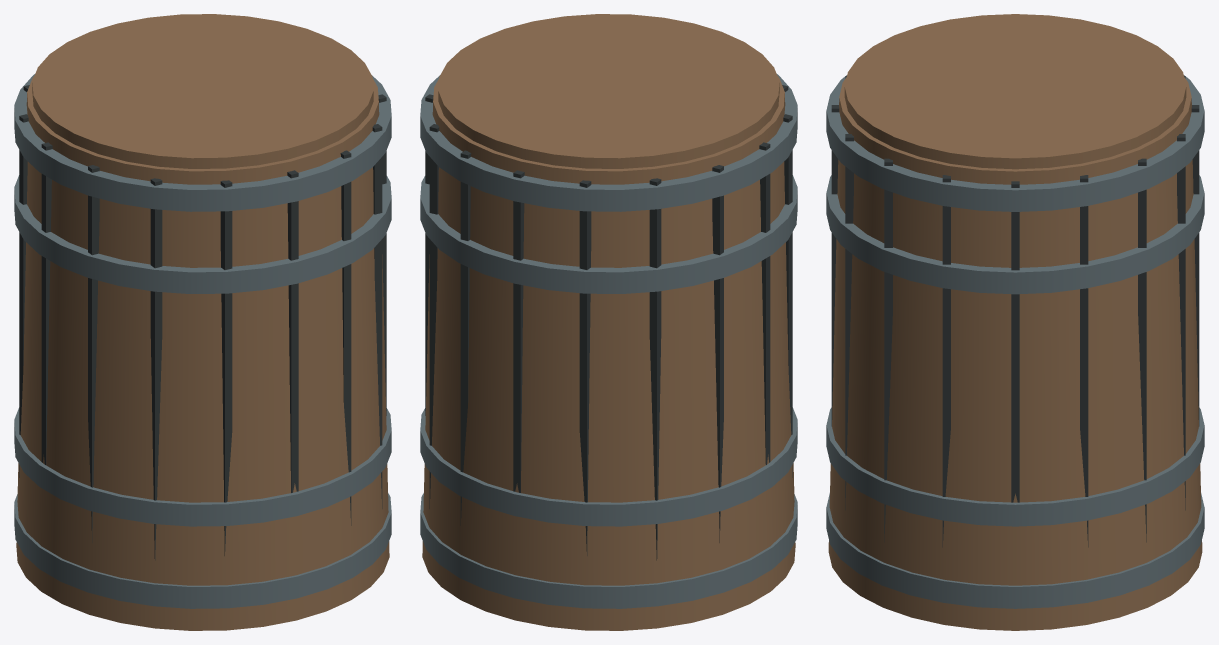
Rendered from barrel.glb.
3 views of the same model, side by side, from view 1: azimuth 30°, elevation 25°; view 2: azimuth 150°, elevation 25°; view 3: azimuth 270°, elevation 25° (orthographic).
Parts seen in each view (by area): view 1: Бочка с обручами; view 2: Бочка с обручами; view 3: Бочка с обручами.
Boxes of the visible parts, bbox=[...] form: Бочка с обручами: bbox=[14, 14, 391, 630]; Бочка с обручами: bbox=[420, 14, 797, 630]; Бочка с обручами: bbox=[826, 14, 1204, 630].
Size of the model in its own units: 0.708 by 0.9625 by 0.708.
